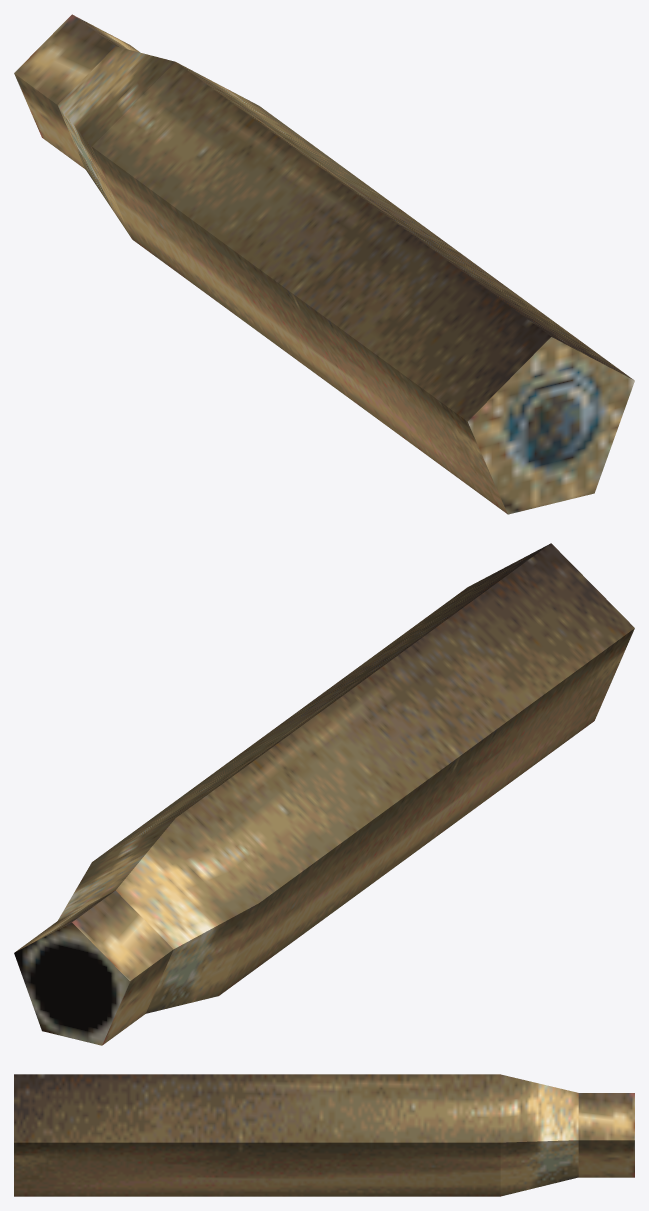
The model's file is casing556.glb.
3 views of the same model, one above another, from view 1: azimuth 30°, elevation 25°; view 2: azimuth 150°, elevation 25°; view 3: azimuth 270°, elevation 25° (orthographic). The views are drawn at different scales.
Parts seen in each view (by area): view 1: Rifle unspent; view 2: Rifle unspent; view 3: Rifle unspent.
Boxes of the visible parts, left/top/right/bottom form: Rifle unspent: left=14, top=14, right=634, bottom=514; Rifle unspent: left=14, top=543, right=634, bottom=1045; Rifle unspent: left=14, top=1074, right=634, bottom=1196.
Size of the model in its own units: 0.0444 by 0.0424 by 0.2203.
Materials: 1 (1 with a texture image).
